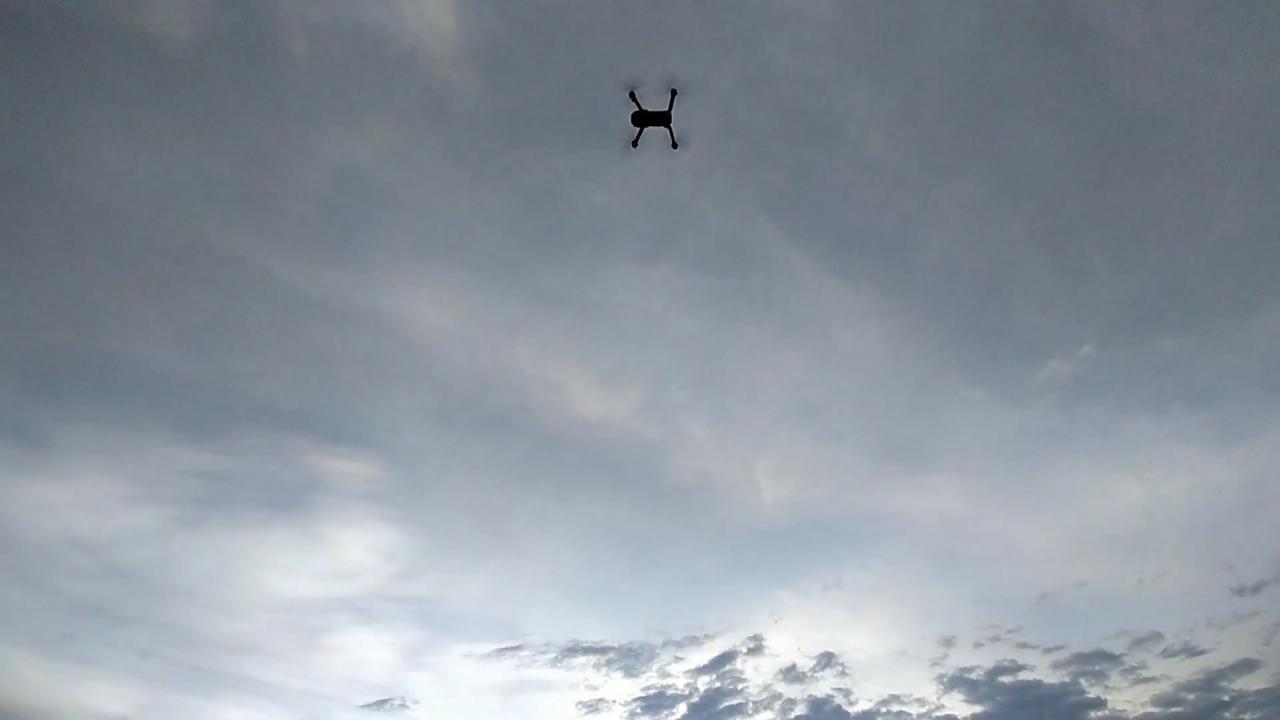Drone: (599, 64, 710, 172)
